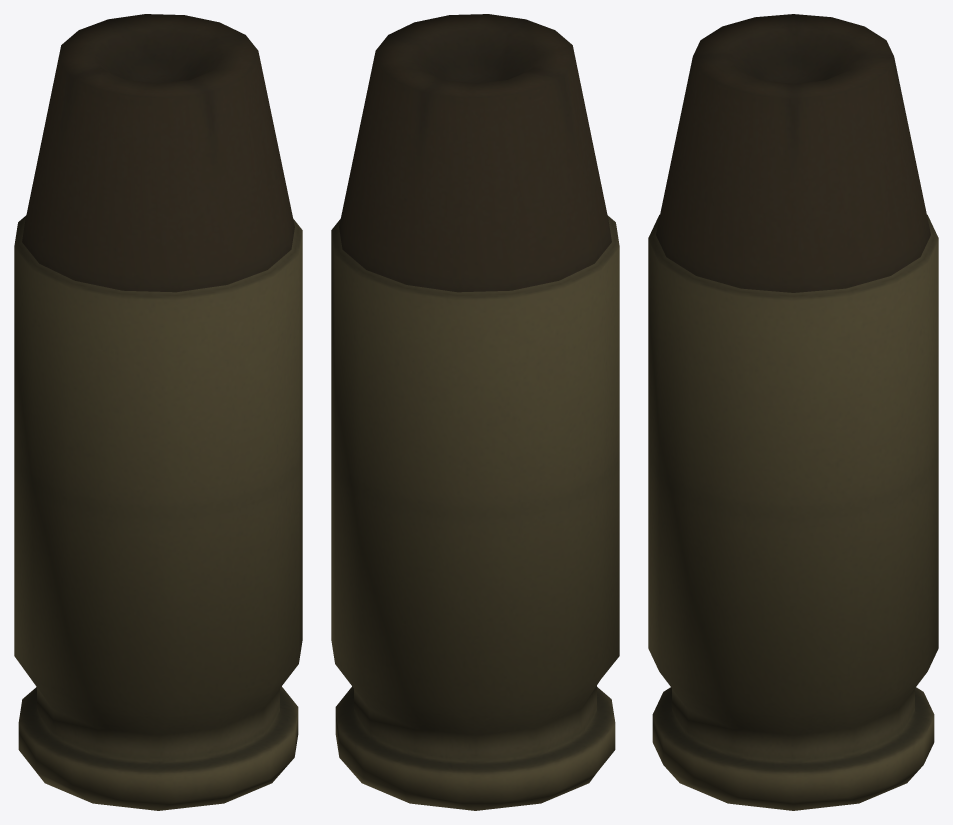
File: SA_45ACP_Example.obj
The picture shows the model from 3 angles, left to right: view 1: azimuth 30°, elevation 25°; view 2: azimuth 150°, elevation 25°; view 3: azimuth 270°, elevation 25°; orthographic projection.
Visible parts, largest first — view 1: 45_ACP_Low_Poly; view 2: 45_ACP_Low_Poly; view 3: 45_ACP_Low_Poly.
Part boxes in pixels (x1,y1,x2,y2): 45_ACP_Low_Poly: (14,14,302,810); 45_ACP_Low_Poly: (331,14,619,810); 45_ACP_Low_Poly: (648,14,938,810).
Size of the model in its own units: 0.3093 by 0.8208 by 0.3093.
